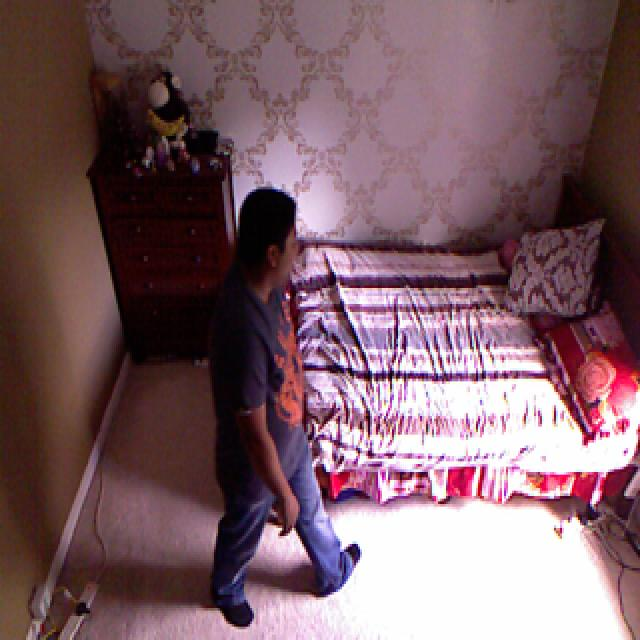standing: (204, 186, 358, 628)
